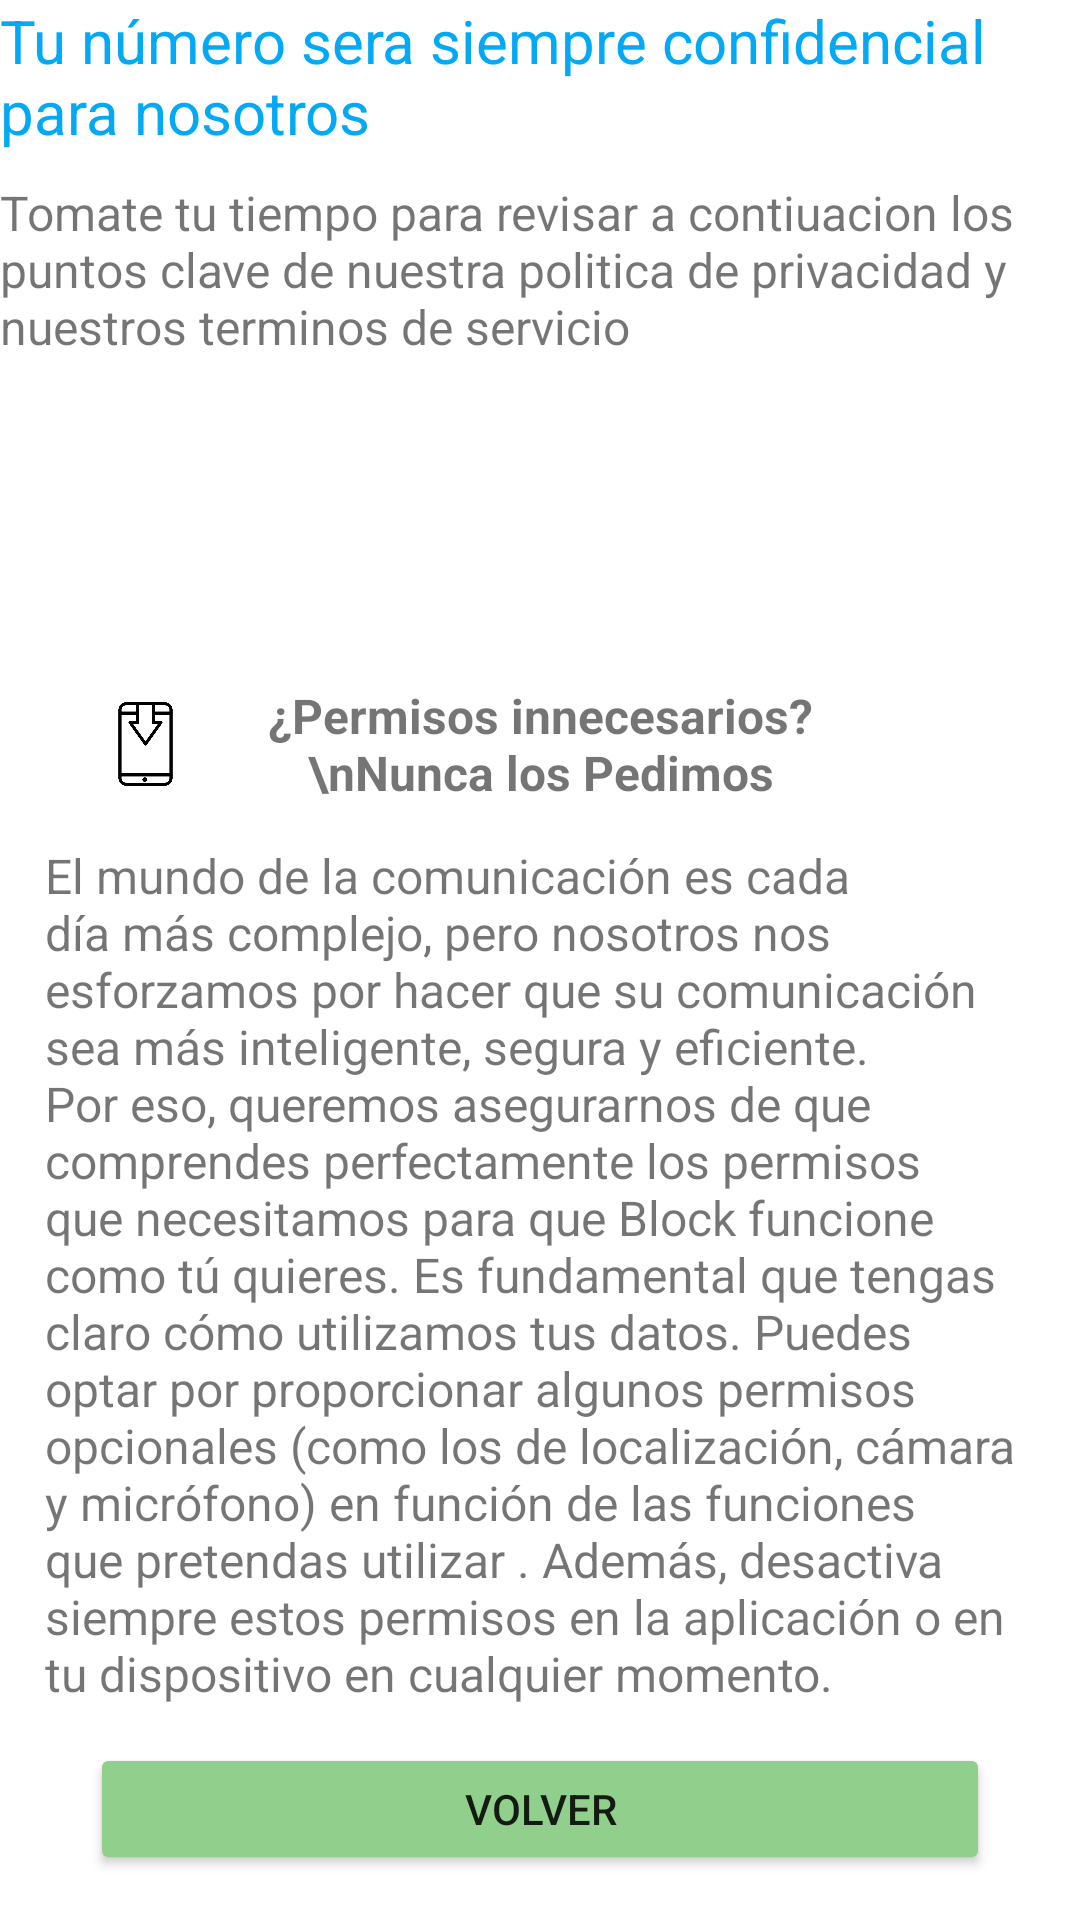

Icons on this 1080w x 1920h Android screen, each with its box as (x1=x1, y1=y1, x2=x2, y2=y2):
app: (x1=118, y1=702, x2=173, y2=786)
